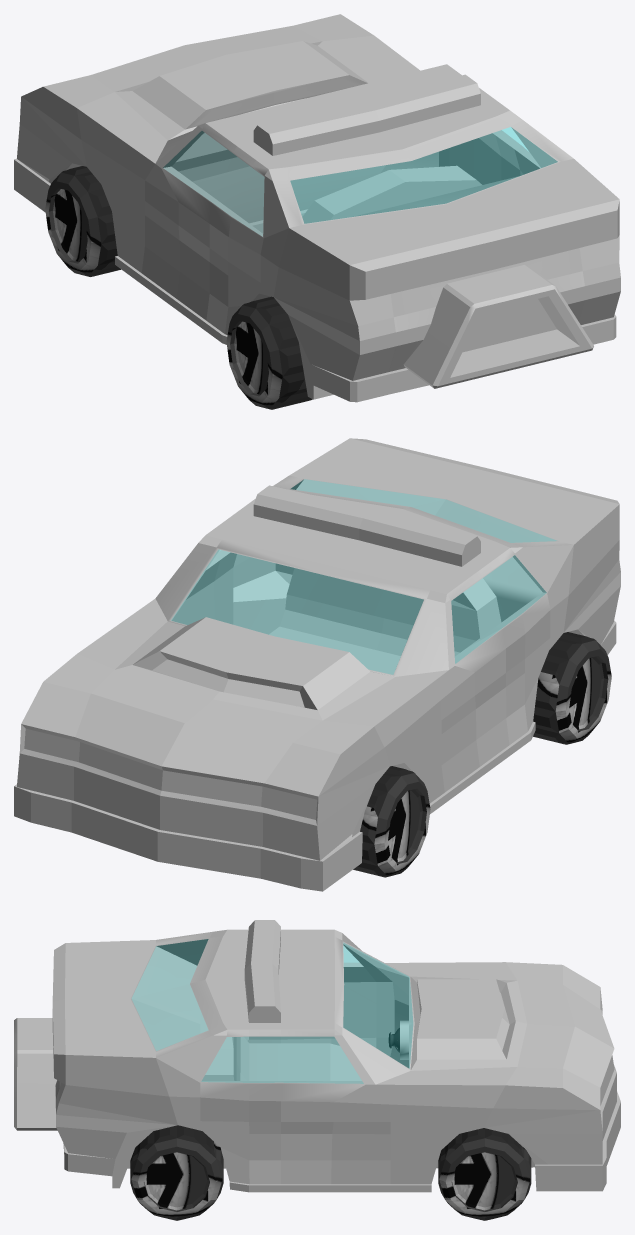
The model's file is cruiserfull.fbx.
3 renders of one model, top to bottom at view 1: azimuth 30°, elevation 25°; view 2: azimuth 150°, elevation 25°; view 3: azimuth 270°, elevation 25°, orthographic. The views are drawn at different scales.
Parts seen in each view (by area): view 1: Chassis, Wheel3, Wheel4; view 2: Chassis, Wheel3, Wheel4; view 3: Chassis, Wheel2, Wheel1.
Part boxes in pixels (x1,y1,x2,y2): Chassis: [14, 14, 620, 402]; Wheel3: [226, 296, 312, 409]; Wheel4: [45, 166, 120, 276]; Chassis: [14, 438, 620, 891]; Wheel3: [533, 632, 611, 744]; Wheel4: [353, 766, 430, 877]; Chassis: [14, 920, 620, 1192]; Wheel2: [130, 1125, 223, 1220]; Wheel1: [438, 1128, 531, 1220].
Size of the model in its own units: 9.82 by 6.21 by 17.91.
